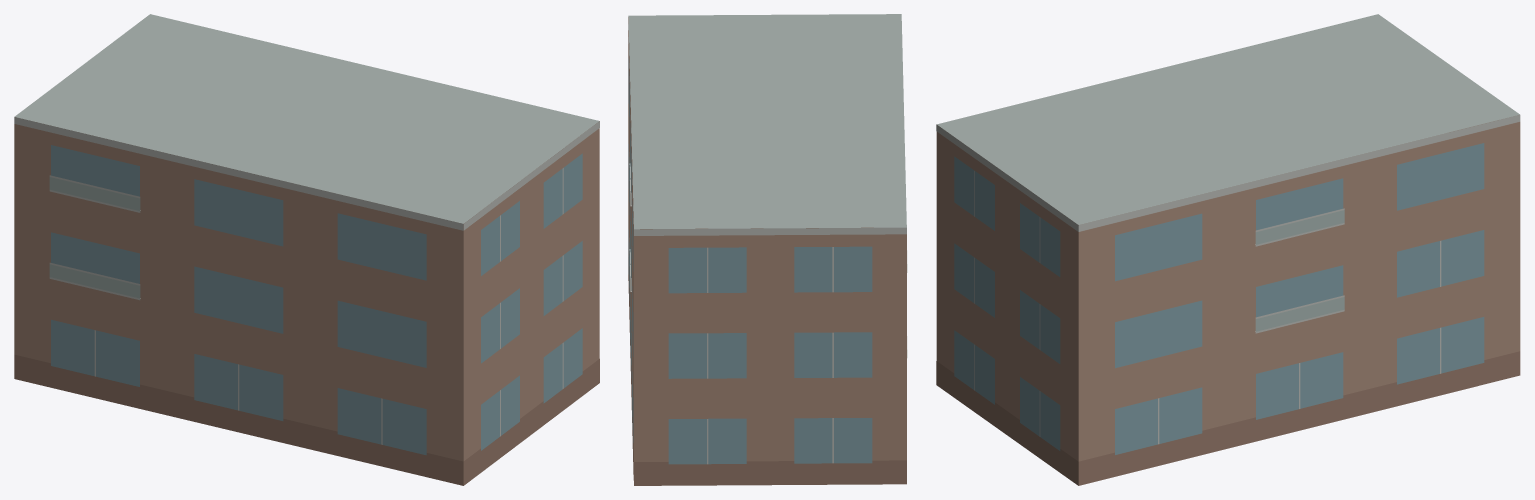
File: survey-upis-32956285.glb
3 views of the same model, side by side, from view 1: azimuth 30°, elevation 25°; view 2: azimuth 150°, elevation 25°; view 3: azimuth 270°, elevation 25° (orthographic). The views are drawn at different scales.
Parts seen in each view (by area): view 1: survey-upis-32956285.tmp; view 2: survey-upis-32956285.tmp; view 3: survey-upis-32956285.tmp.
Part boxes in pixels (x1,y1,x2,y2): survey-upis-32956285.tmp: (14,14,599,485); survey-upis-32956285.tmp: (628,14,907,485); survey-upis-32956285.tmp: (936,14,1520,485).
Bounding box in the file's own units: 15.9 × 9.15 × 18.57.
